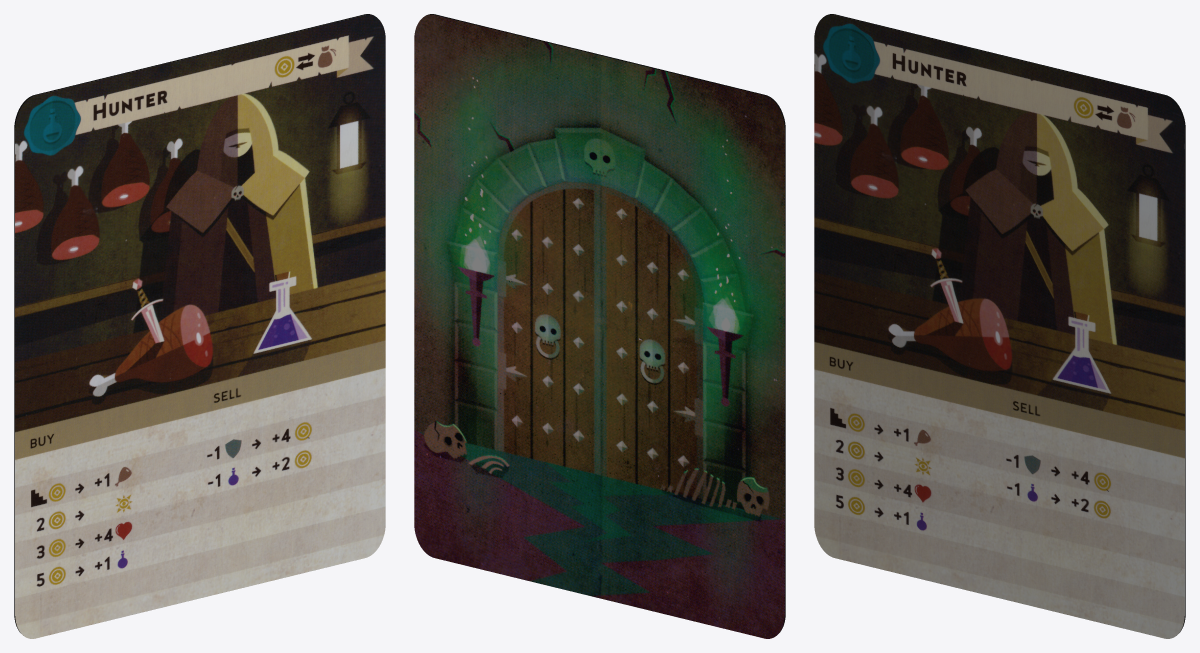
File: DungeonCardTest2.fbx
3 views of the same model, side by side, from view 1: azimuth 30°, elevation 25°; view 2: azimuth 150°, elevation 25°; view 3: azimuth 330°, elevation 25° (orthographic).
Parts seen in each view (by area): view 1: Cube; view 2: Cube; view 3: Cube.
Part boxes in pixels (<box>): Cube: <box>14,14,385,638</box>; Cube: <box>414,14,785,638</box>; Cube: <box>814,14,1185,638</box>.
Bounding box in the file's own units: 500 × 700 × 2.
